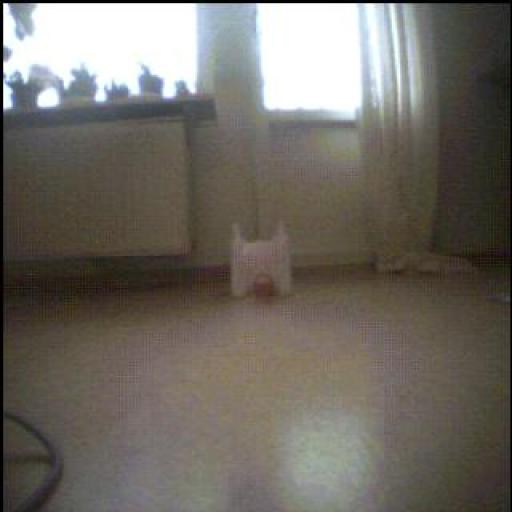Basket: (254, 275, 276, 299)
